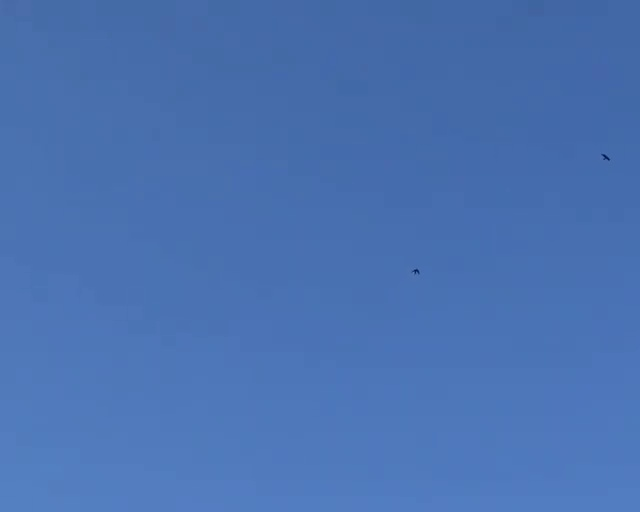BIRD: (601, 153, 610, 160)
